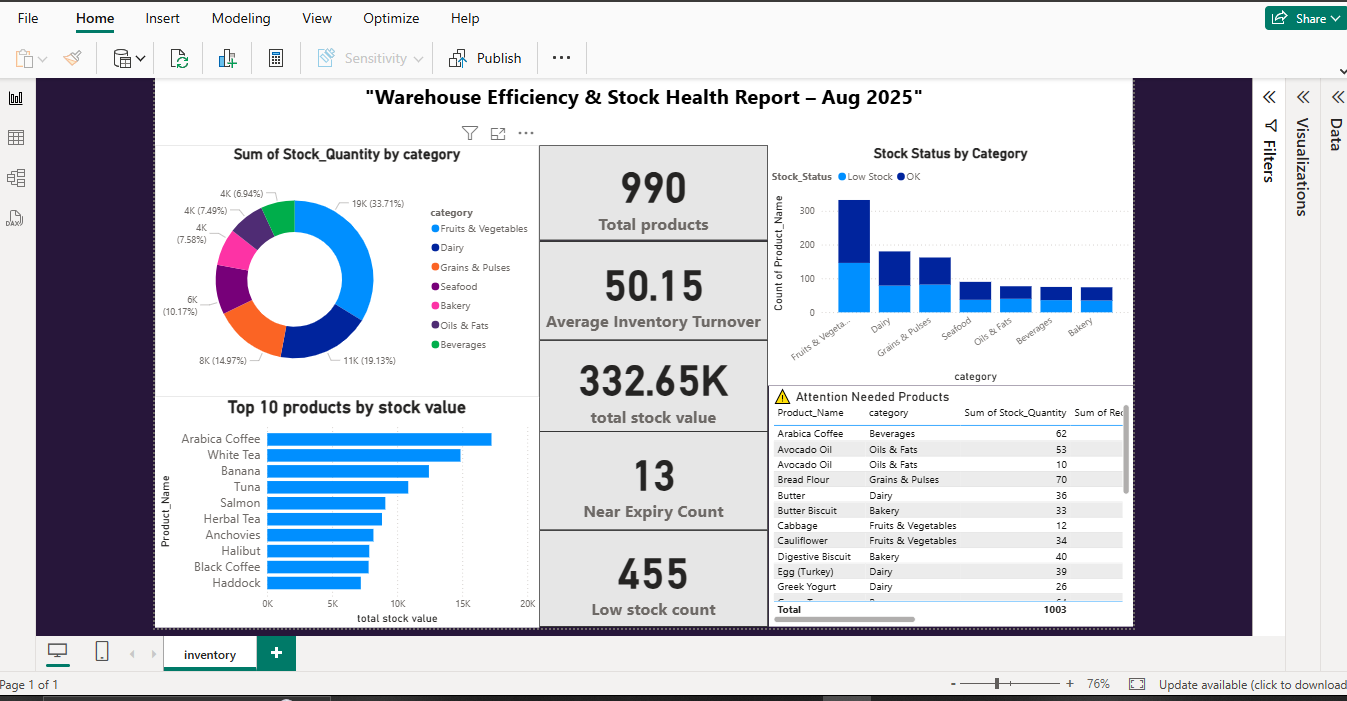

This screenshot's page, from the dashboard's own definition file:
{"tool":"powerbi","page":{"name":"inventory","canvas":[1280,720],"ordinal":0},"visuals":[{"type":"card","fields":{"Values":["Grocery_Inventory_new_v1.Total products"]},"box":[502.6,87.8,299.5,125.3],"z":0},{"type":"card","fields":{"Values":["Grocery_Inventory_new_v1.total stock value"]},"box":[502.6,342.7,299.5,121],"z":1},{"type":"card","fields":{"Values":["Grocery_Inventory_new_v1.Average Inventory Turnover"]},"box":[502.6,213.1,299.5,129.6],"z":2},{"type":"card","fields":{"Values":["Grocery_Inventory_new_v1.Low stock count"]},"box":[502.6,591.8,299.5,126.7],"z":3},{"type":"card","fields":{"Values":["Grocery_Inventory_new_v1.Near Expiry Count"]},"box":[502.6,462.2,299.5,129.6],"z":4},{"type":"textbox","box":[0,0,1280.2,87.8],"z":5},{"type":"clusteredBarChart","title":"Top 10 products by stock value","fields":{"Category":["Grocery_Inventory_new_v1.Product_Name"],"Y":["Grocery_Inventory_new_v1.total stock value"]},"box":[0,417.6,502.6,302.4],"z":6},{"type":"donutChart","fields":{"Category":["Grocery_Inventory_new_v1.category"],"Y":["Sum(Grocery_Inventory_new_v1.Stock_Quantity)"]},"box":[0,87.8,502.6,329.8],"z":7},{"type":"columnChart","title":"Stock Status by Category","fields":{"Category":["Grocery_Inventory_new_v1.category"],"Y":["CountNonNull(Grocery_Inventory_new_v1.Product_Name)"],"Series":["Grocery_Inventory_new_v1.Stock_Status"]},"box":[802.1,87.8,478.1,315.4],"z":8},{"type":"tableEx","title":"⚠️ Attention Needed Products","fields":{"Values":["Grocery_Inventory_new_v1.Product_Name","Grocery_Inventory_new_v1.category","Sum(Grocery_Inventory_new_v1.Stock_Quantity)","Sum(Grocery_Inventory_new_v1.Reorder_Level)","Grocery_Inventory_new_v1.Expiration_Date.Variation.Date Hierarchy.Year","Grocery_Inventory_new_v1.Expiration_Date.Variation.Date Hierarchy.Quarter","Grocery_Inventory_new_v1.Expiration_Date.Variation.Date Hierarchy.Month","Grocery_Inventory_new_v1.Expiration_Date.Variation.Date Hierarchy.Day","Sum(Grocery_Inventory_new_v1.Sales_Volume)","Grocery_Inventory_new_v1.Stock_Status","Grocery_Inventory_new_v1.Expiry_status","Grocery_Inventory_new_v1.slow moving "]},"box":[803.5,403.2,476.6,315.4],"z":9}]}

Visuals, with their boxes on the page's 1280x720 design canvas (x1, y1, x2, y2). These are canvas units, not pixel positions in the 1347x701 screenshot, which may show the page scaled, cropped or inside an application window:
card - Grocery_Inventory_new_v1.Total products: rect(503, 88, 802, 213)
card - Grocery_Inventory_new_v1.total stock value: rect(503, 343, 802, 464)
card - Grocery_Inventory_new_v1.Average Inventory Turnover: rect(503, 213, 802, 343)
card - Grocery_Inventory_new_v1.Low stock count: rect(503, 592, 802, 718)
card - Grocery_Inventory_new_v1.Near Expiry Count: rect(503, 462, 802, 592)
textbox: rect(0, 0, 1280, 88)
"Top 10 products by stock value" clusteredBarChart: rect(0, 418, 503, 720)
donutChart - Grocery_Inventory_new_v1.category x Sum(Grocery_Inventory_new_v1.Stock_Quantity): rect(0, 88, 503, 418)
"Stock Status by Category" columnChart: rect(802, 88, 1280, 403)
"⚠️ Attention Needed Products" tableEx: rect(804, 403, 1280, 719)
